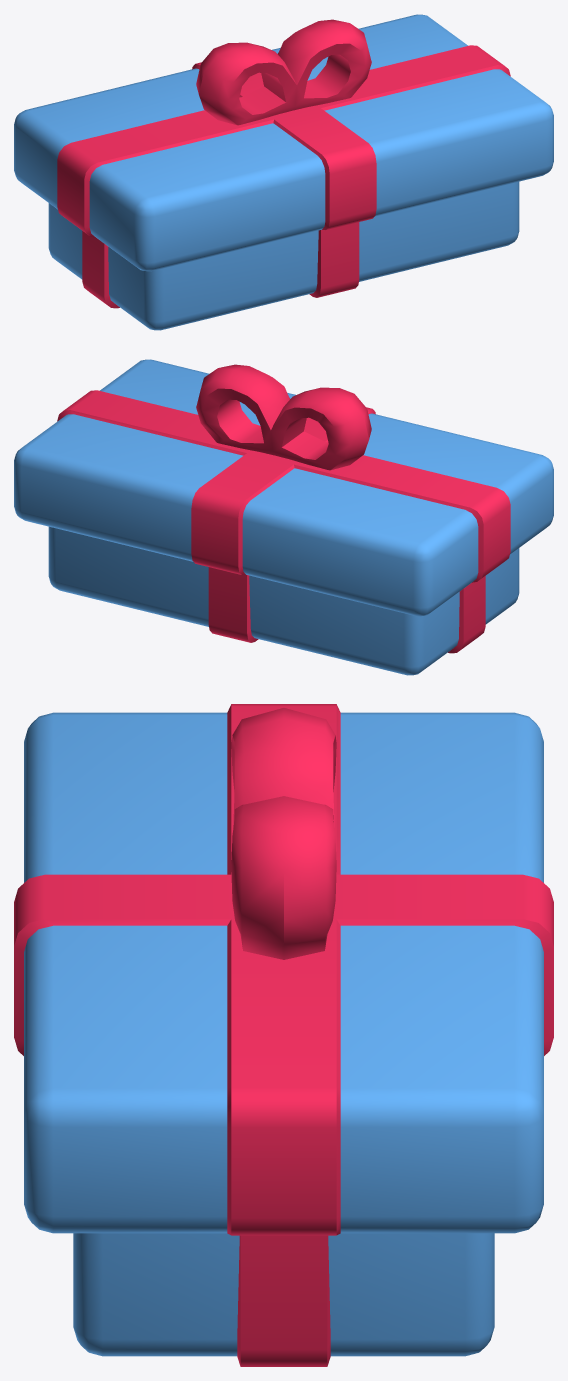
The model's file is giftC.gltf.glb.
3 renders of one model, top to bottom at view 1: azimuth 30°, elevation 25°; view 2: azimuth 150°, elevation 25°; view 3: azimuth 270°, elevation 25°, orthographic. The views are drawn at different scales.
Visible parts, largest first — view 1: giftC; view 2: giftC; view 3: giftC.
Part boxes in pixels (left/top/right/bottom): giftC: left=14, top=14, right=553, bottom=330; giftC: left=14, top=359, right=553, bottom=675; giftC: left=14, top=704, right=553, bottom=1366.
Bounding box in the file's own units: 1.83 × 0.8998 × 1.03.
